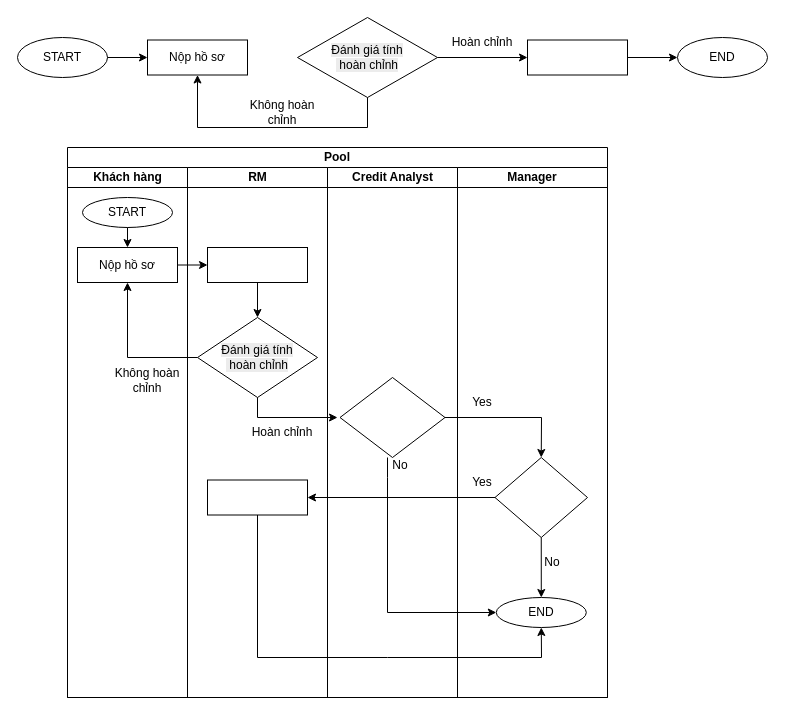
This 785x715 diagram has some shape labels left out. Here are the shapes that lost their labels. From the top down, the centre of each, then its label:
At (x=577, y=57): "Nhập & kiểm tra".
At (x=257, y=264): "Nhận & kiểm tra hồ sơ".
At (x=392, y=417): "Phê duyệt tín dụng".
At (x=257, y=497): "Nhập vào hệ thống & kiểm tra".
At (x=541, y=497): "Phê duyệt cuối cùng".
